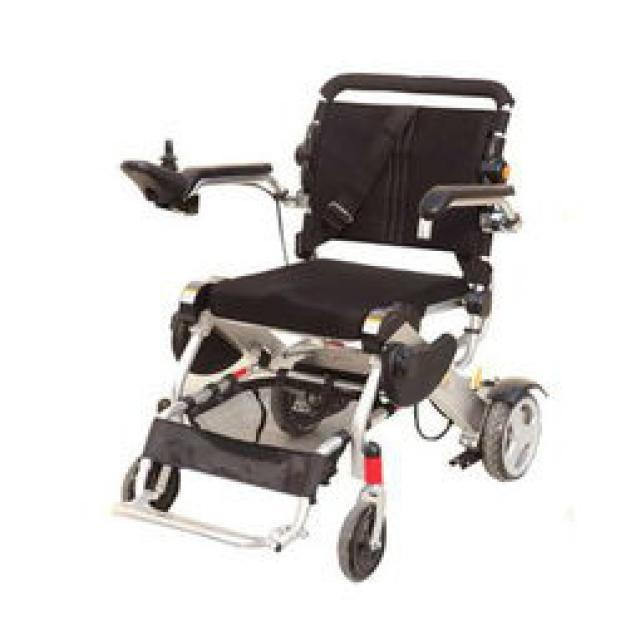wheelchair: (92, 58, 588, 610)
